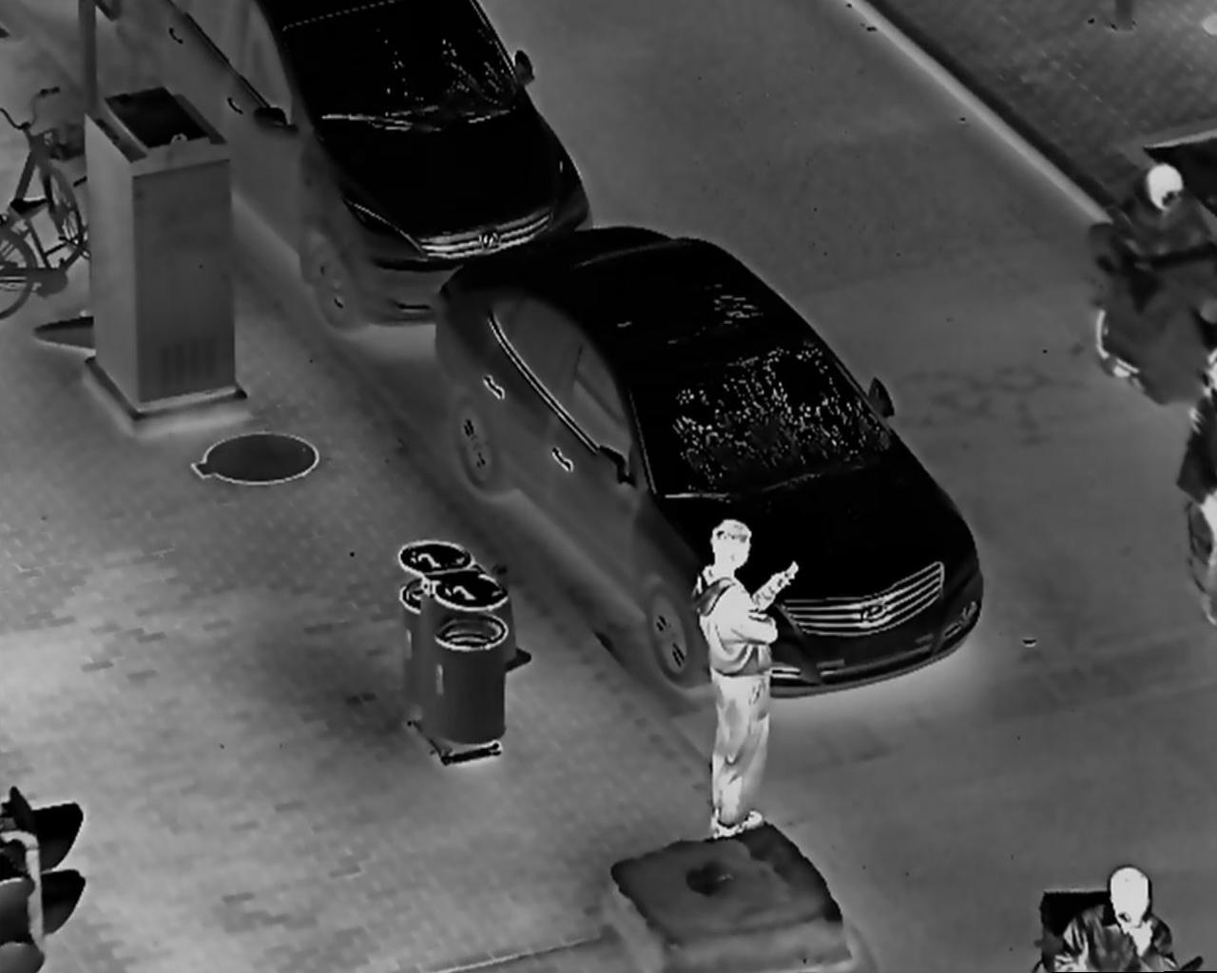person: (687, 510, 792, 835), (1106, 160, 1213, 390), (1049, 863, 1187, 973), (1171, 340, 1217, 596)
